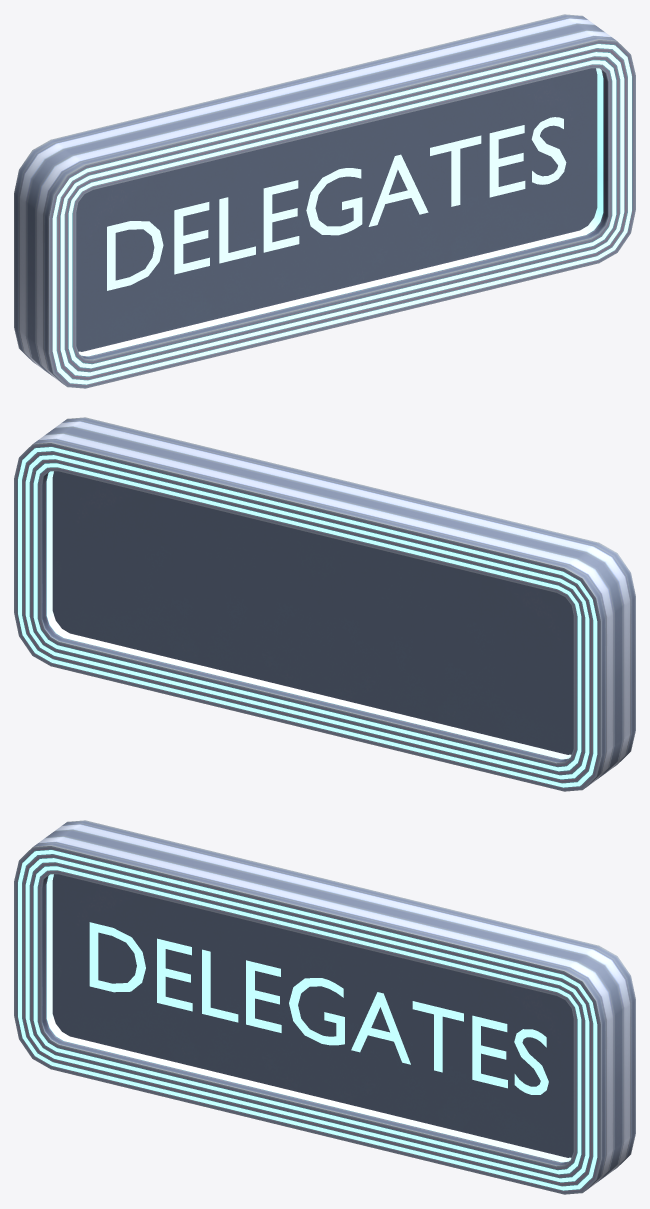
Rendered from obj_delegates.gltf.
3 renders of one model, top to bottom at view 1: azimuth 30°, elevation 25°; view 2: azimuth 150°, elevation 25°; view 3: azimuth 330°, elevation 25°, orthographic.
Parts seen in each view (by area): view 1: obj_delegates; view 2: obj_delegates; view 3: obj_delegates.
Boxes of the visible parts, bbox=[...] form: obj_delegates: bbox=[14, 14, 635, 388]; obj_delegates: bbox=[14, 417, 635, 791]; obj_delegates: bbox=[14, 820, 635, 1194].
Size of what is drawn, in the model's own units: 4.27 by 1.55 by 0.439.
2 materials, 1 textured.
